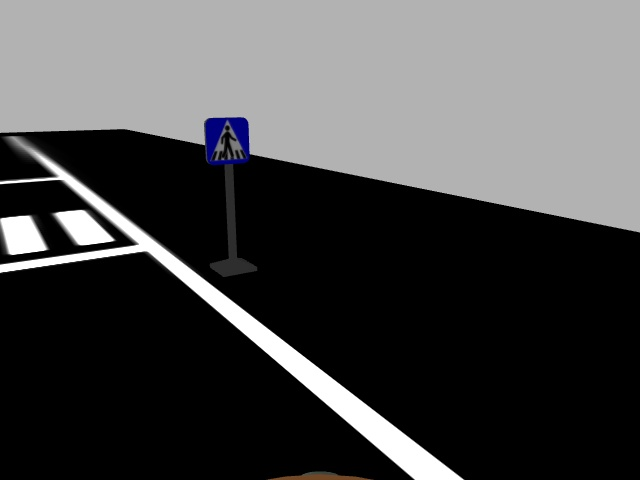crosswalk: (201, 116, 252, 167)
